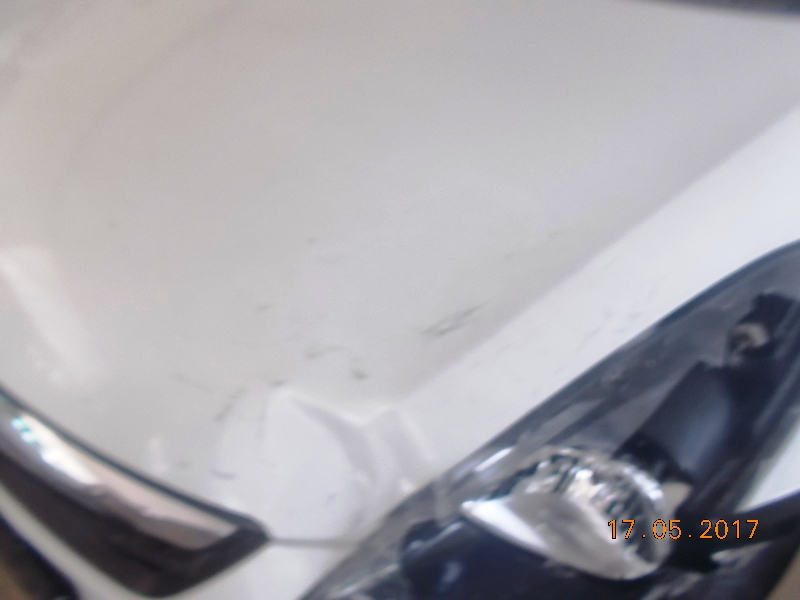Dent: (250, 382, 416, 513)
